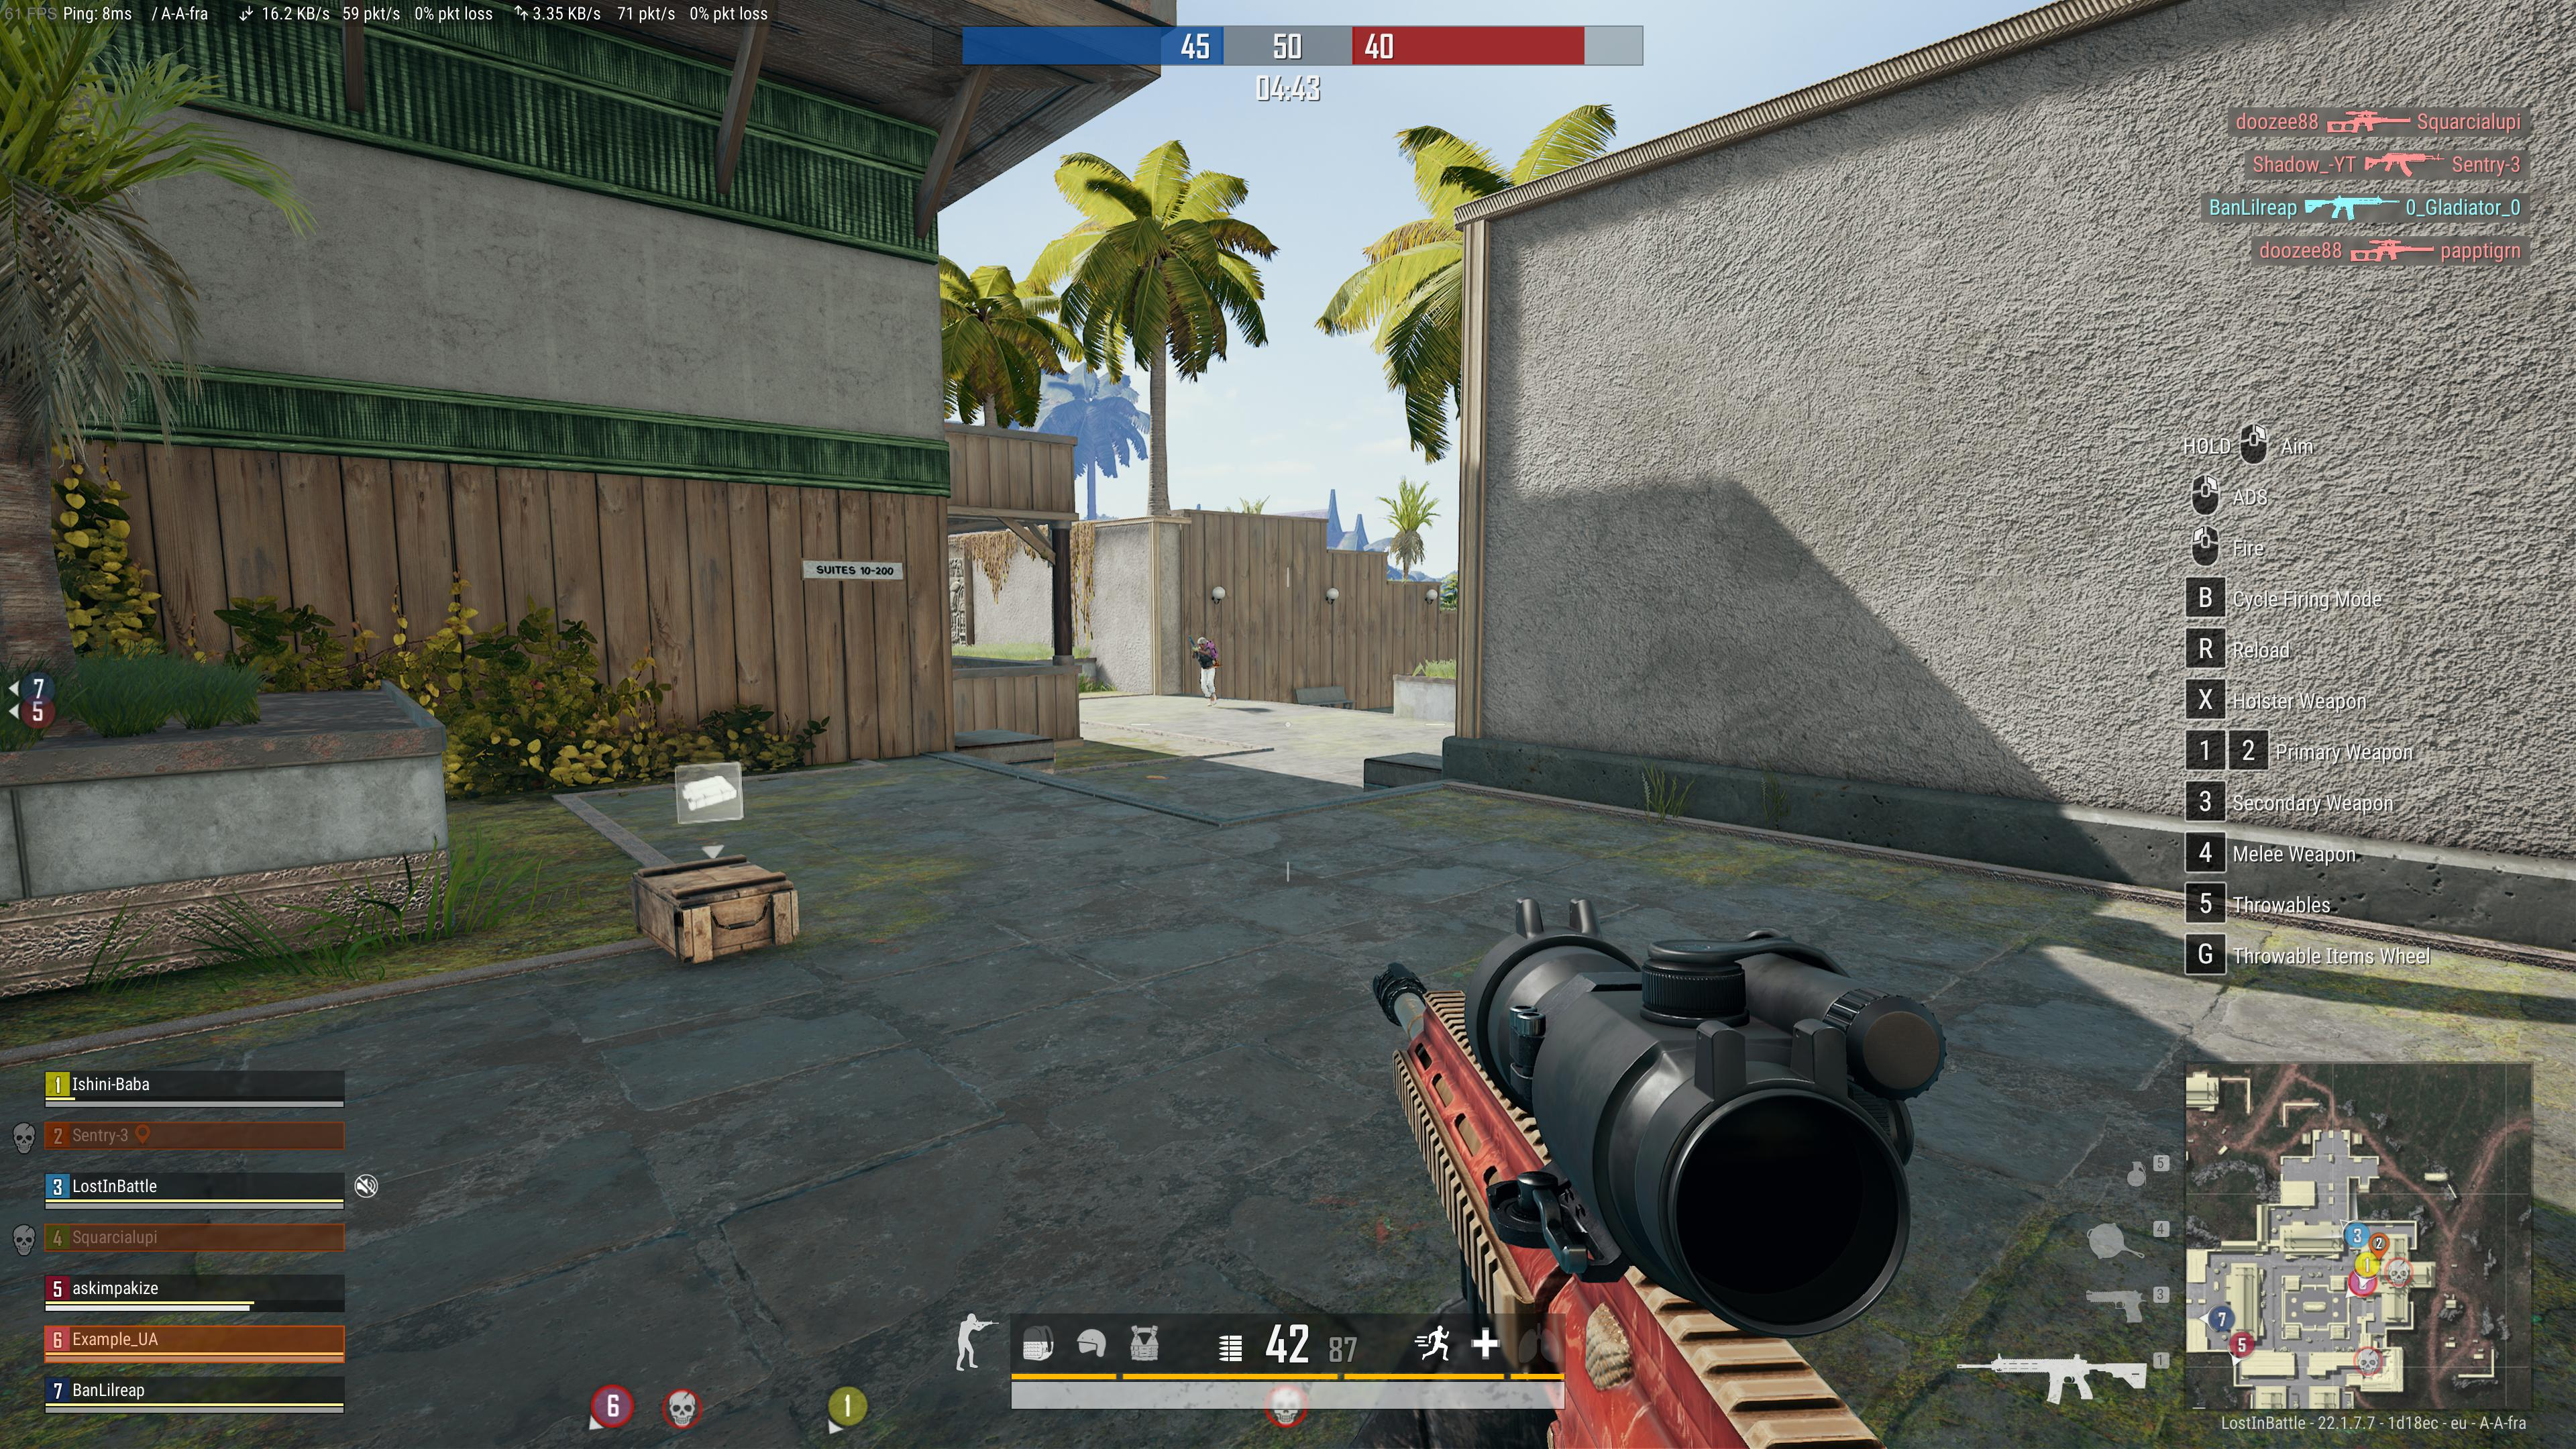enemy: (1191, 635, 1221, 708)
enemy_head: (1196, 635, 1207, 649)
